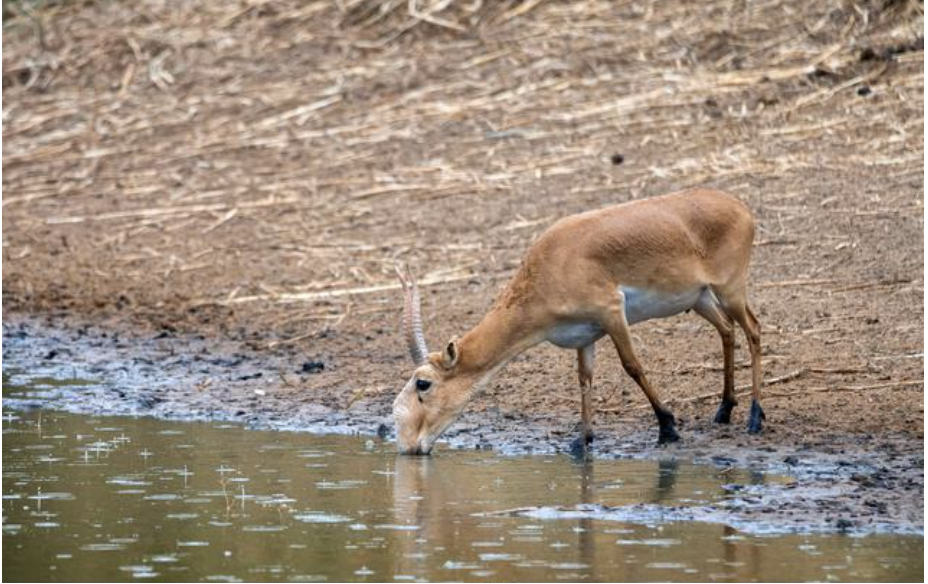saiga: (369, 187, 773, 451)
